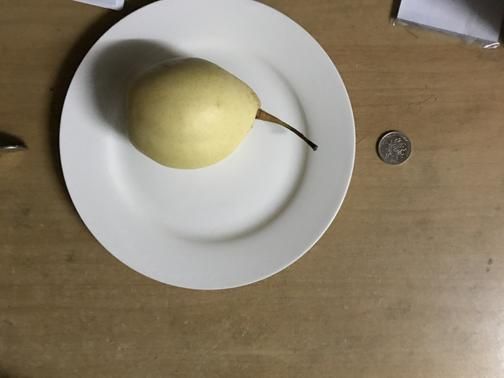coin: (376, 129, 411, 165)
pear: (130, 59, 259, 168)
